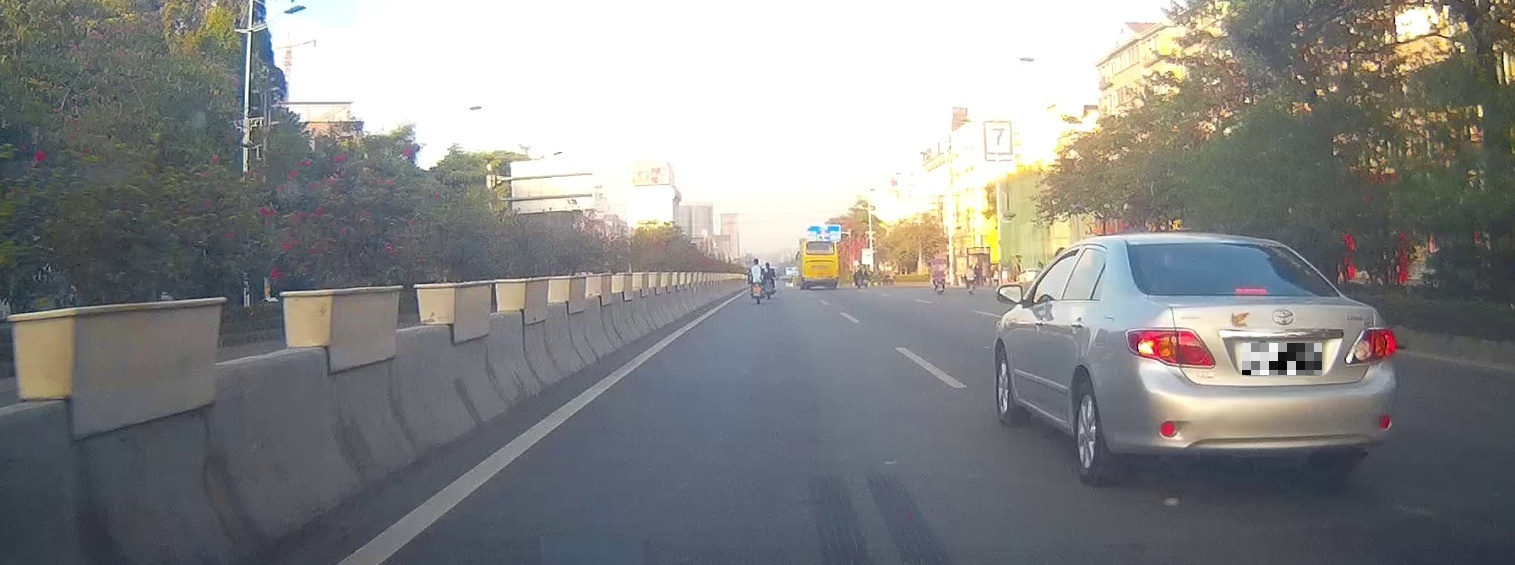L_light: (1125, 328, 1217, 369)
R_light: (1345, 327, 1396, 366)
T_light: (1234, 288, 1266, 295)
day-left: (1117, 231, 1397, 488)
plate_1: (1242, 343, 1322, 375)
